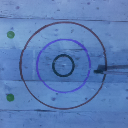Axe Tip: (95, 69, 106, 74)
